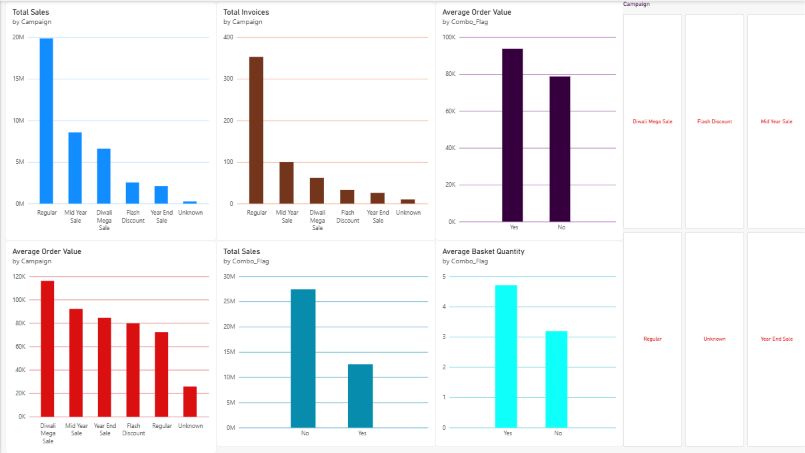

The dashboard page shown, as its layout file describes it:
{"tool":"powerbi","page":{"name":"Campaign & Basket Analysis","canvas":[1920,1080],"ordinal":2},"visuals":[{"type":"clusteredColumnChart","fields":{"Category":["Invoice_Data.Campaign"],"Y":["Invoice_Data.Total Sales"]},"box":[9.5,2.4,503.4,570.2],"z":0},{"type":"clusteredColumnChart","fields":{"Category":["Invoice_Data.Campaign"],"Y":["Invoice_Data.Total Invoices"]},"box":[513,2.4,522.5,570.2],"z":1},{"type":"clusteredColumnChart","fields":{"Category":["Invoice_Data.Campaign"],"Y":["Invoice_Data.Average Order Value"]},"box":[9.5,572.6,503.4,508.2],"z":2},{"type":"clusteredColumnChart","fields":{"Category":["Invoice_Data.Combo_Flag"],"Y":["Invoice_Data.Total Sales"]},"box":[513,572.6,522.5,491.5],"z":3},{"type":"clusteredColumnChart","fields":{"Category":["Invoice_Data.Combo_Flag"],"Y":["Invoice_Data.Average Order Value"]},"box":[1035.5,2.4,448.6,570.2],"z":4},{"type":"clusteredColumnChart","fields":{"Category":["Invoice_Data.Combo_Flag"],"Y":["Invoice_Data.Average Basket Quantity"]},"box":[1035.5,572.6,448.6,491.5],"z":5},{"type":"advancedSlicerVisual","fields":{"Values":["Invoice_Data.Campaign"]},"box":[1484,0,436.6,1064.1],"z":6}]}

Visuals, with their boxes in screenshot pixels (x1, y1, x2, y2), scaled from the page's 1920x1080 canvas onto the 805x453 screenshot:
clusteredColumnChart - Invoice_Data.Campaign x Invoice_Data.Total Sales: crop(4, 1, 215, 240)
clusteredColumnChart - Invoice_Data.Campaign x Invoice_Data.Total Invoices: crop(215, 1, 434, 240)
clusteredColumnChart - Invoice_Data.Campaign x Invoice_Data.Average Order Value: crop(4, 240, 215, 452)
clusteredColumnChart - Invoice_Data.Combo_Flag x Invoice_Data.Total Sales: crop(215, 240, 434, 446)
clusteredColumnChart - Invoice_Data.Combo_Flag x Invoice_Data.Average Order Value: crop(434, 1, 622, 240)
clusteredColumnChart - Invoice_Data.Combo_Flag x Invoice_Data.Average Basket Quantity: crop(434, 240, 622, 446)
advancedSlicerVisual - Invoice_Data.Campaign: crop(622, 0, 804, 446)
